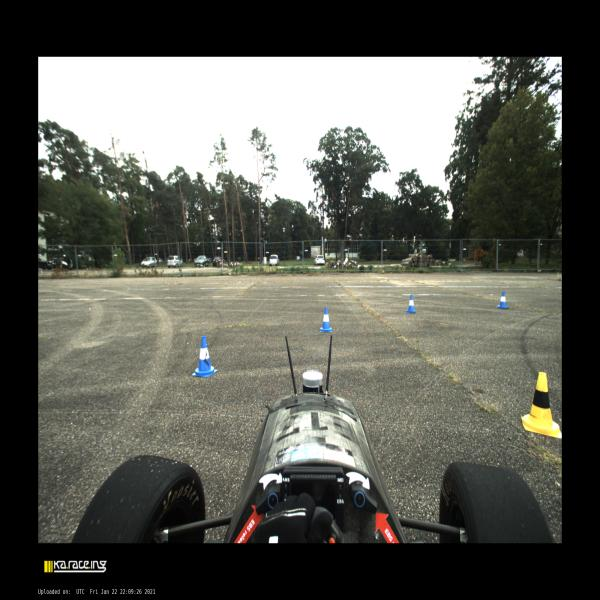blue_cone: (192, 336, 218, 378), (319, 307, 333, 332), (496, 292, 508, 309), (407, 294, 416, 314)
yellow_cone: (521, 372, 562, 438)
